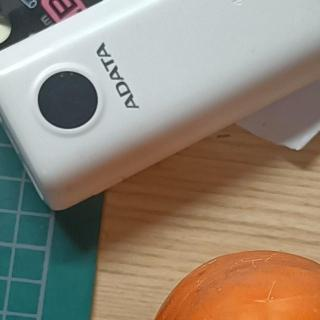carrot: (140, 243, 320, 320)
